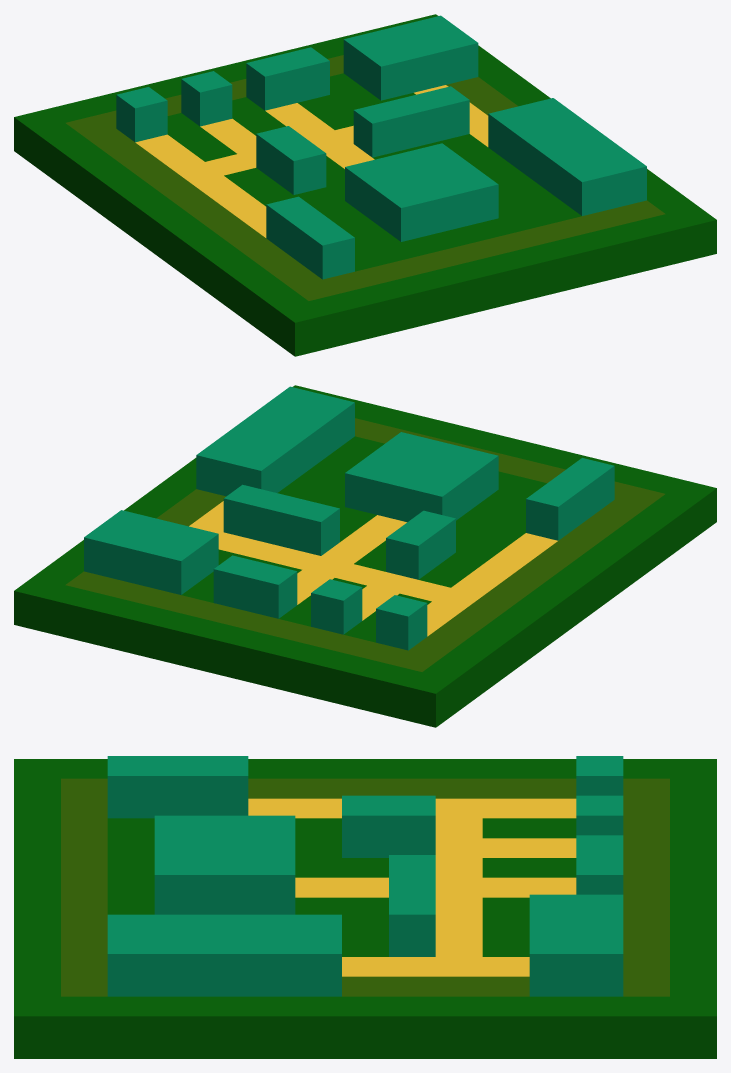
The model's file is open-circuit-1.gltf.
3 renders of one model, top to bottom at view 1: azimuth 30°, elevation 25°; view 2: azimuth 150°, elevation 25°; view 3: azimuth 270°, elevation 25°, orthographic. The views are drawn at different scales.
Visible parts, largest first — view 1: Node; view 2: Node; view 3: Node.
Part boxes in pixels (x1,y1,x2,y2): Node: (14, 14, 716, 356); Node: (14, 385, 716, 727); Node: (14, 756, 716, 1058).
Size of the model in its own units: 1.3 by 0.2 by 1.5.
1 material, 1 textured.
